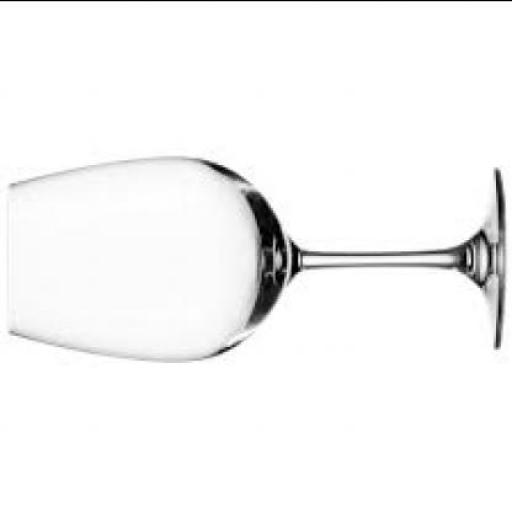glass: (7, 153, 500, 357)
